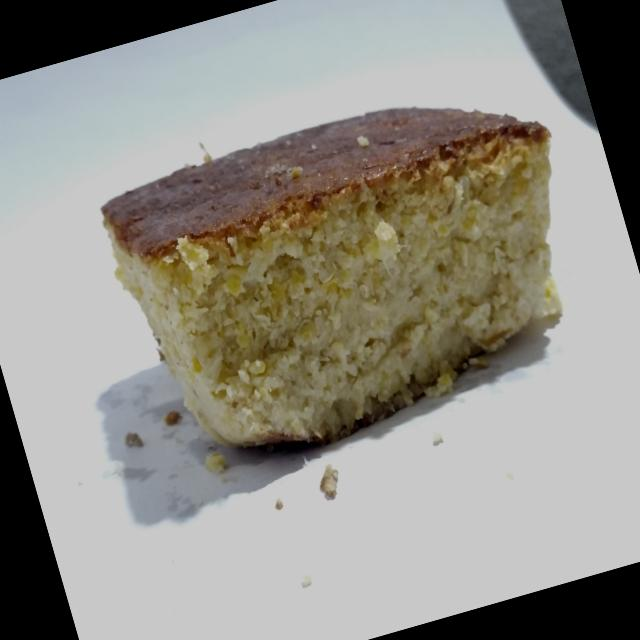Chipa_Guazu: (74, 34, 624, 504)
